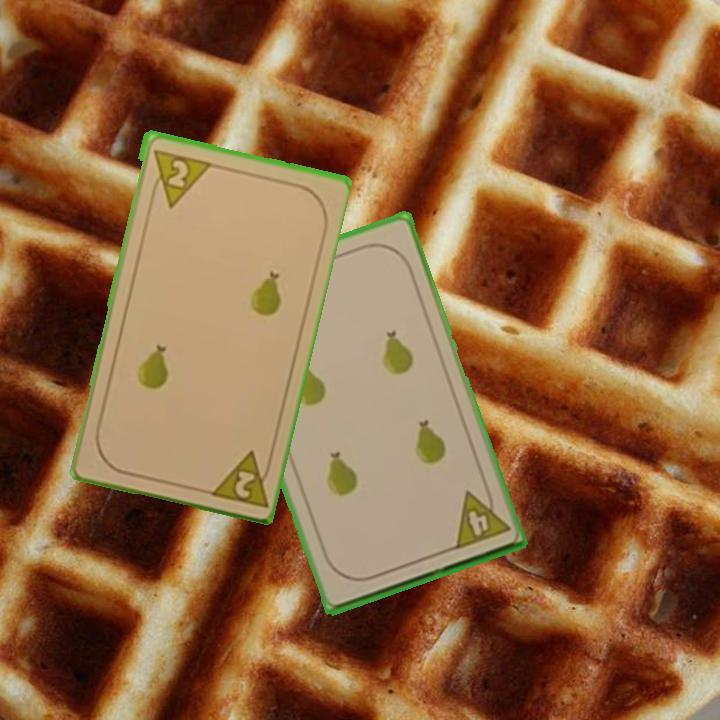2p: (203, 446, 276, 510), (148, 144, 212, 210)
4p: (450, 482, 513, 553)
